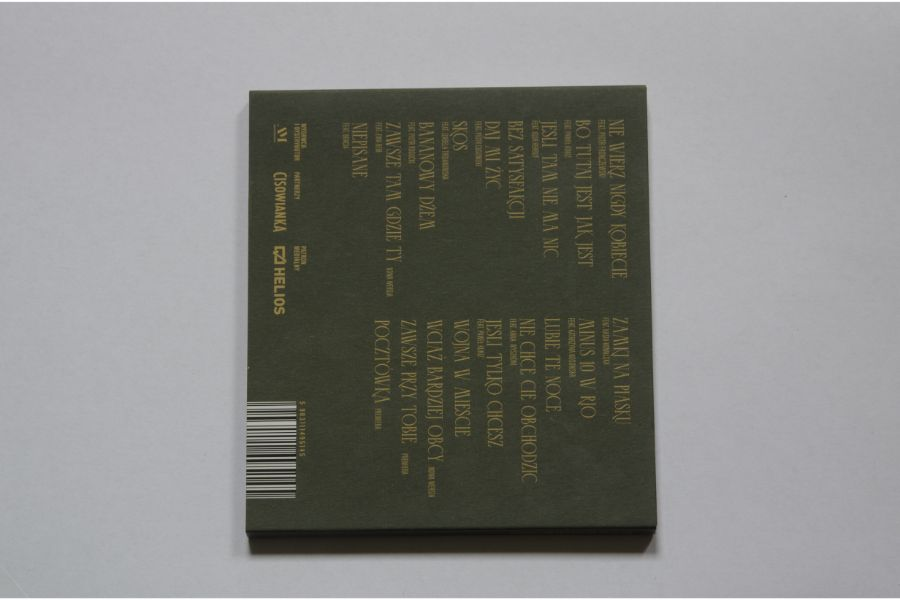album: (243, 89, 657, 532)
